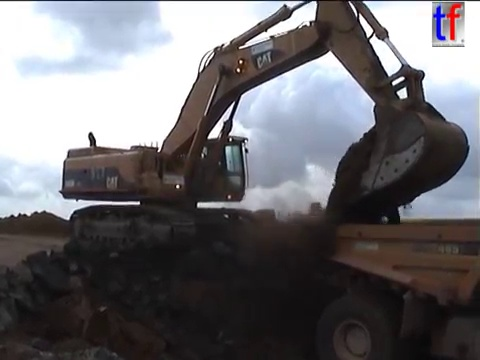excavator: (55, 1, 473, 258)
wheel loader: (287, 218, 480, 360), (274, 200, 341, 232)
